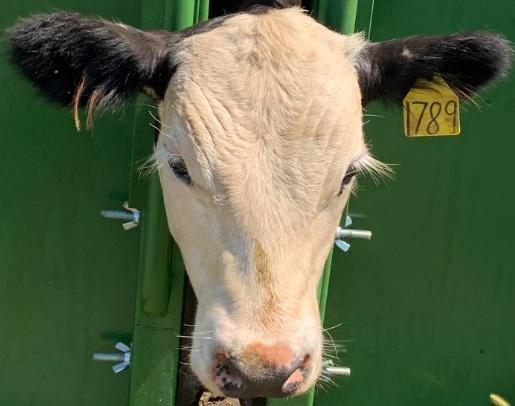muzzles: (181, 324, 342, 404)
